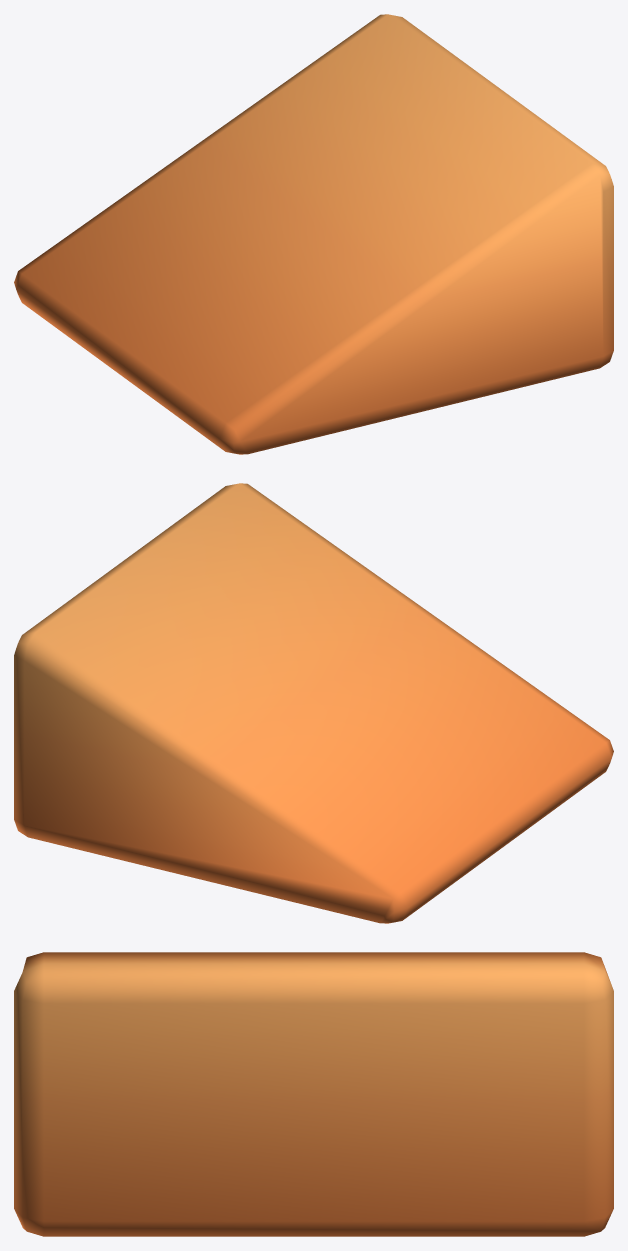
The model's file is 3D_Tile_Ground_Slope_02B.fbx.
The picture shows the model from 3 angles, top to bottom: view 1: azimuth 30°, elevation 25°; view 2: azimuth 150°, elevation 25°; view 3: azimuth 270°, elevation 25°; orthographic projection. The views are drawn at different scales.
Parts seen in each view (by area): view 1: 3D_Tile_Ground_Slope_02B; view 2: 3D_Tile_Ground_Slope_02B; view 3: 3D_Tile_Ground_Slope_02B.
Boxes of the visible parts, box(x1,y1,x2,y2) form: 3D_Tile_Ground_Slope_02B: box(14, 14, 613, 454); 3D_Tile_Ground_Slope_02B: box(14, 483, 613, 923); 3D_Tile_Ground_Slope_02B: box(14, 952, 613, 1236).
Size of the model in its own units: 200 by 100 by 200.
